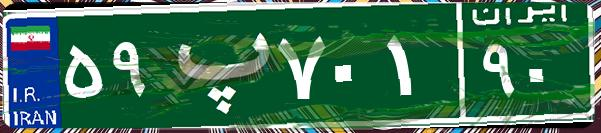0: (330, 28, 385, 110), (525, 38, 570, 115)
1: (385, 28, 445, 110)
5: (57, 26, 110, 107)
7: (273, 28, 330, 110)
9: (475, 38, 525, 113), (110, 28, 158, 105)
پ: (158, 15, 273, 115)
